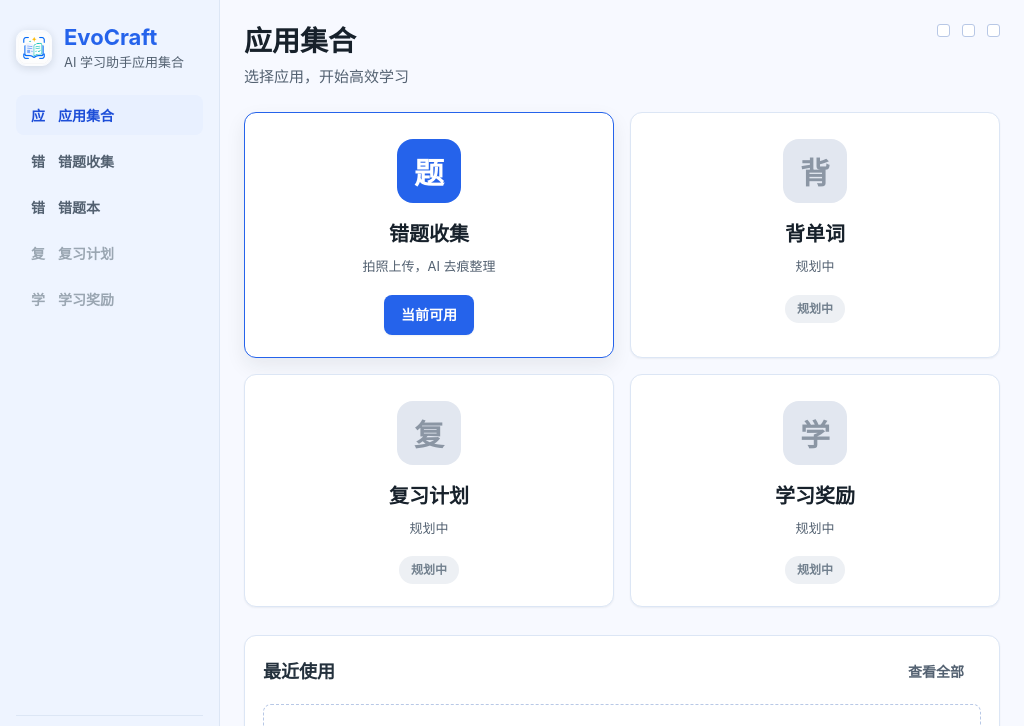
App › keeps mock AI as the default when desktop real AI is disabled
The image size is (1024, 726).
Click the button "错 错题收集" at {"x": 110, "y": 161}, box [16,141,203,181]
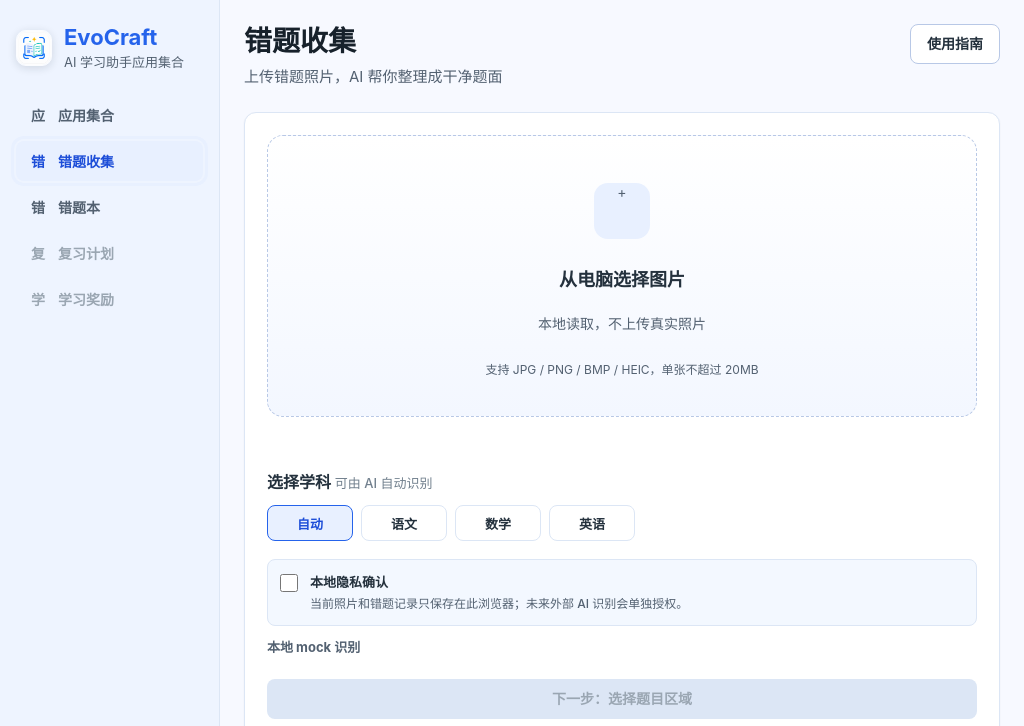
Expected: the text "本地 mock 识别" is shown, [267,639,360,655]
